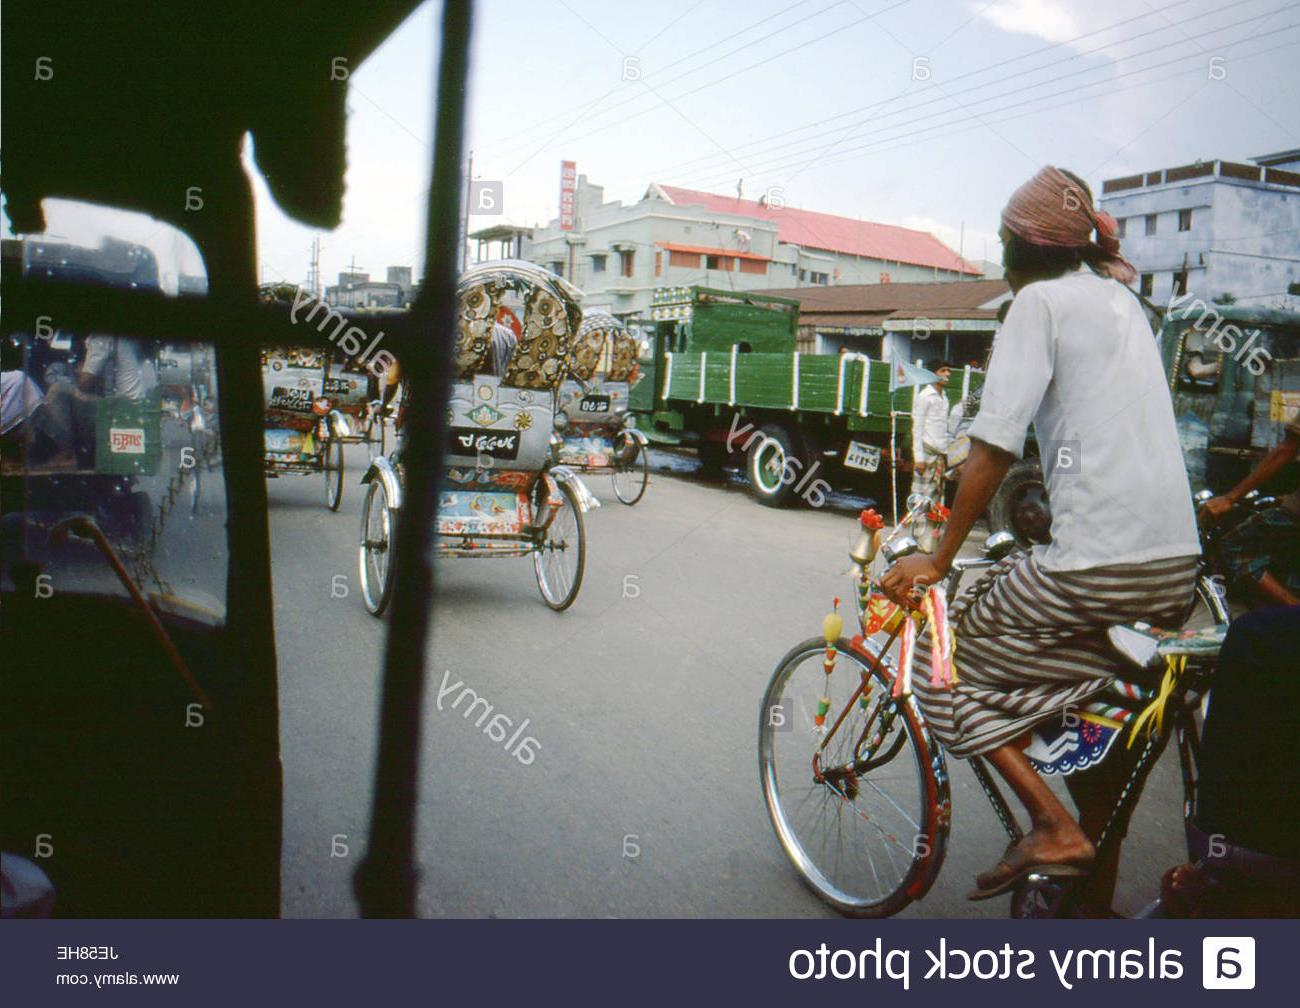Rickshaw: (817, 153, 1231, 911), (368, 256, 587, 623), (170, 249, 351, 536), (555, 303, 650, 507)
